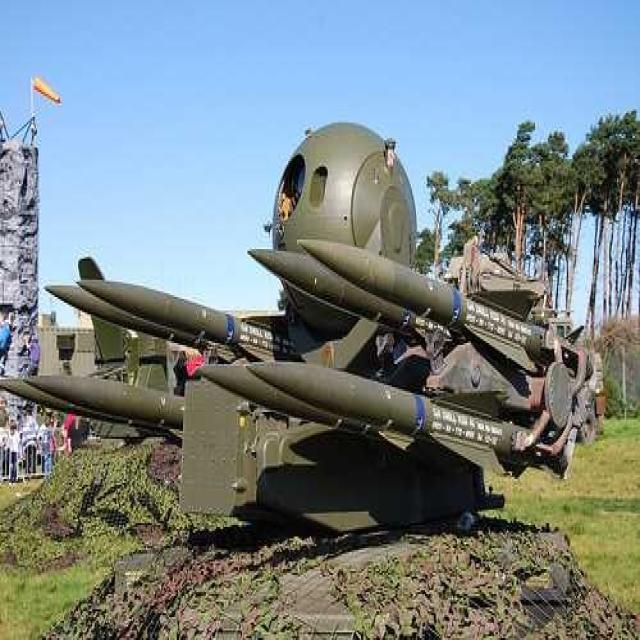missile: (250, 354, 602, 496), (295, 230, 588, 386), (20, 361, 208, 447)
